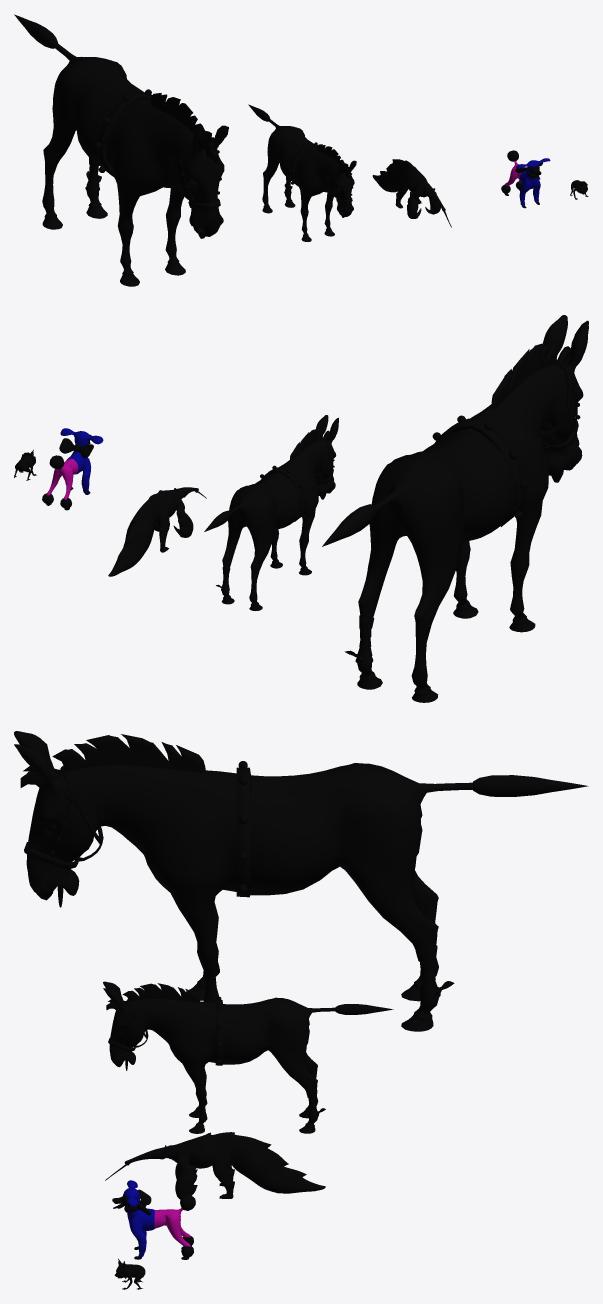
The model's file is Animal Size Reference.fbx.
The picture shows the model from 3 angles, top to bottom: view 1: azimuth 30°, elevation 25°; view 2: azimuth 150°, elevation 25°; view 3: azimuth 270°, elevation 25°; orthographic projection. The views are drawn at different scales.
Visible parts, largest first — view 1: Loris; view 2: Loris; view 3: Loris.
Part boxes in pixels (<box>): Loris: <box>14,14,588,286</box>; Loris: <box>14,315,588,702</box>; Loris: <box>14,731,588,1289</box>.
Size of the model in its own units: 739 by 309 by 582.
